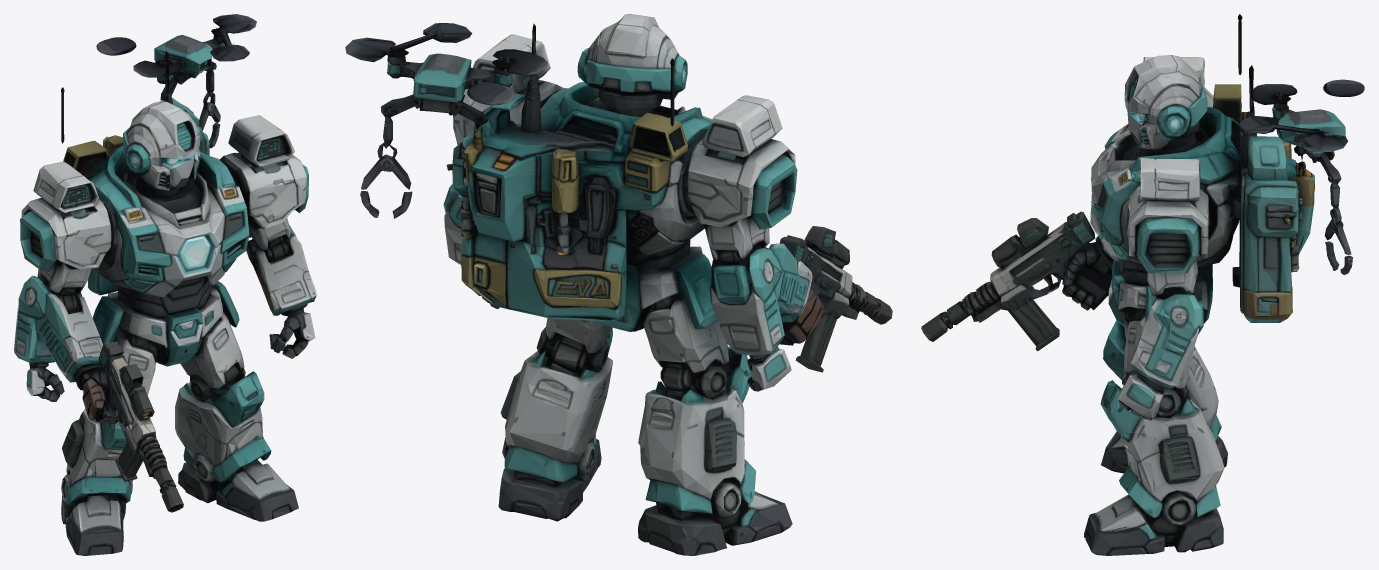
File: fortress-robot.glb
3 renders of one model, left to right at view 1: azimuth 30°, elevation 25°; view 2: azimuth 150°, elevation 25°; view 3: azimuth 270°, elevation 25°, orthographic. The views are drawn at different scales.
Visible parts, largest first — view 1: geometry_0; view 2: geometry_0; view 3: geometry_0.
Part boxes in pixels (<box>): geometry_0: <box>14,14,316,555</box>; geometry_0: <box>345,14,892,555</box>; geometry_0: <box>921,14,1364,555</box>.
Bounding box in the file's own units: 0.7192 × 0.9985 × 0.8635.
1 material, 1 textured.
